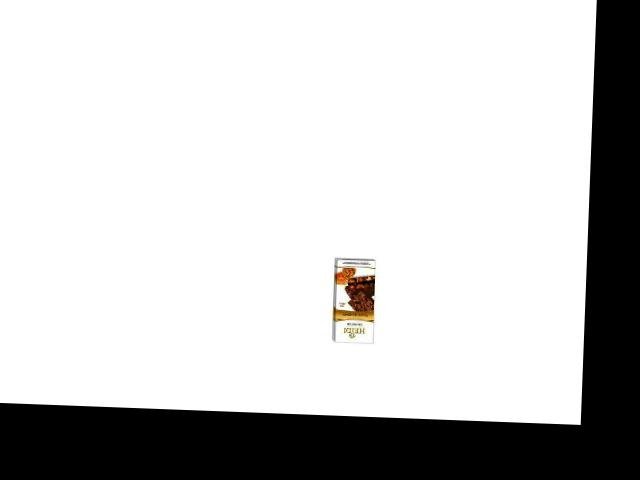chocolate: (329, 255, 377, 346)
